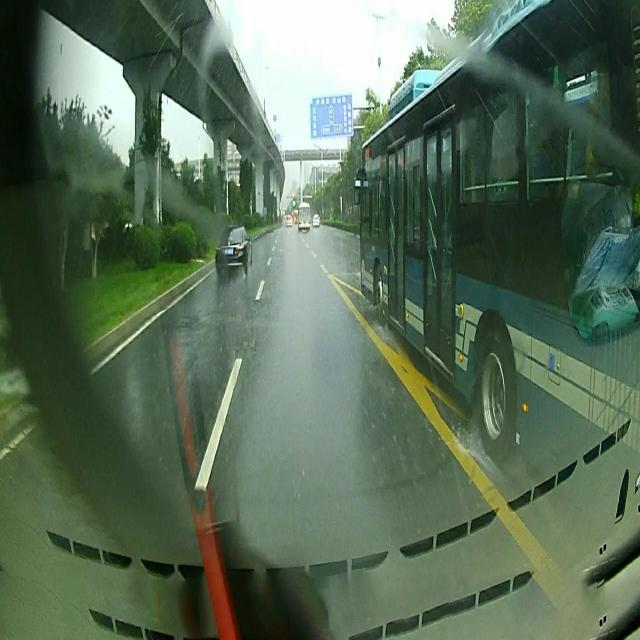car: (212, 224, 252, 275)
